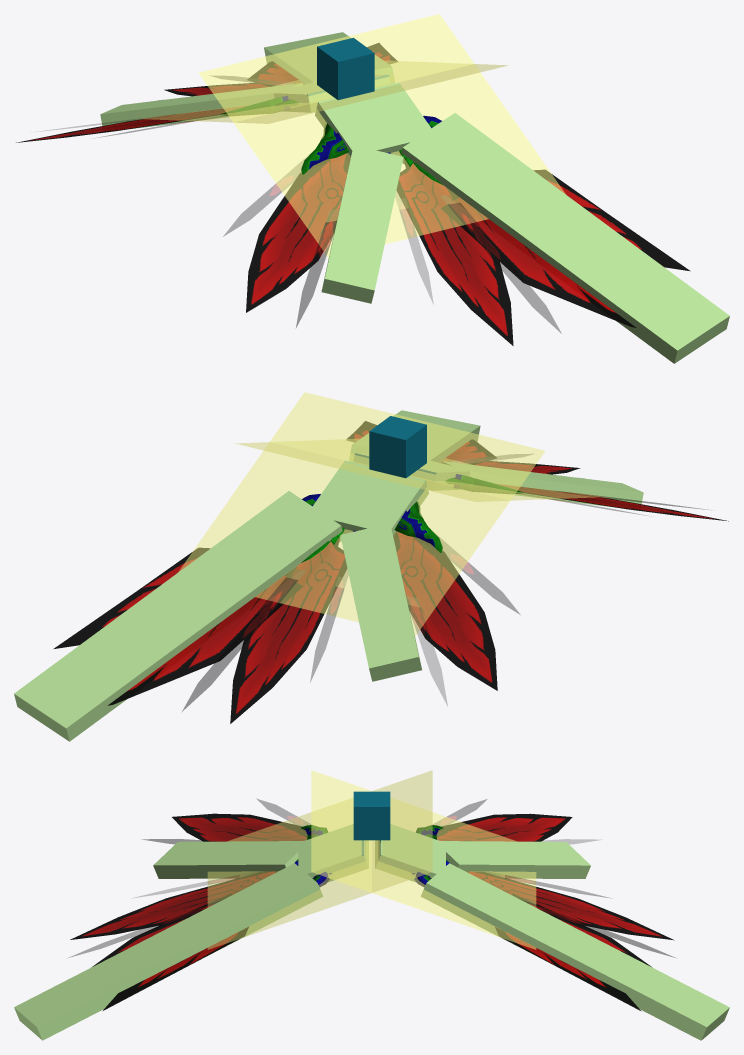
3 renders of one model, top to bottom at view 1: azimuth 30°, elevation 25°; view 2: azimuth 150°, elevation 25°; view 3: azimuth 270°, elevation 25°, orthographic. The views are drawn at different scales.
Parts seen in each view (by area): view 1: object0272_Plane02, object0175_04, object0145_Box, object0111_Box, object0253_Box, object0261_Plane01, object0046_Box, object0258_Box, object0065_Box, object0005_X659A, object0186_Object05:0, object0212_Object05:2 (+3 smaller); view 2: object0261_Plane01, object0175_04, object0065_Box, object0046_Box, object0247_Box, object0272_Plane02, object0111_Box, object0258_Box, object0145_Box, object0212_Object05:2, object0005_X659A, object0186_Object05:0 (+3 smaller); view 3: object0175_04, object0065_Box, object0145_Box, object0272_Plane02, object0261_Plane01, object0046_Box, object0111_Box, object0253_Box, object0247_Box, object0258_Box, object0186_Object05:0, object0212_Object05:2 (+3 smaller).
Boxes of the visible parts, x1,y1,x2,y2 form: object0272_Plane02: (199, 14, 565, 257); object0175_04: (16, 43, 690, 345); object0145_Box: (401, 113, 729, 363); object0111_Box: (321, 150, 403, 303); object0253_Box: (315, 82, 436, 156); object0261_Plane01: (141, 61, 508, 123); object0046_Box: (100, 83, 302, 129); object0258_Box: (317, 37, 374, 100); object0065_Box: (264, 32, 394, 83); object0005_X659A: (220, 96, 443, 185); object0186_Object05:0: (99, 115, 561, 333); object0212_Object05:2: (213, 76, 338, 327); object0261_Plane01: (179, 392, 544, 635); object0175_04: (53, 421, 728, 723); object0065_Box: (14, 491, 342, 741); object0046_Box: (340, 523, 421, 681); object0247_Box: (308, 460, 428, 535); object0272_Plane02: (235, 439, 601, 501); object0111_Box: (441, 461, 643, 507); object0258_Box: (369, 416, 426, 478); object0145_Box: (349, 410, 480, 462); object0212_Object05:2: (182, 490, 704, 711); object0005_X659A: (300, 474, 523, 563); object0186_Object05:0: (437, 454, 531, 614); object0175_04: (70, 813, 674, 1011); object0065_Box: (421, 863, 729, 1040); object0145_Box: (14, 863, 322, 1040); object0272_Plane02: (207, 770, 432, 949); object0261_Plane01: (311, 770, 536, 949); object0046_Box: (435, 841, 590, 878); object0111_Box: (153, 841, 302, 878); object0253_Box: (298, 824, 368, 882); object0247_Box: (375, 824, 445, 882); object0258_Box: (353, 791, 390, 840); object0186_Object05:0: (69, 799, 486, 957); object0212_Object05:2: (143, 839, 674, 957).
Bounding box in the file's own units: 2.22 × 1.02 × 3.92.
